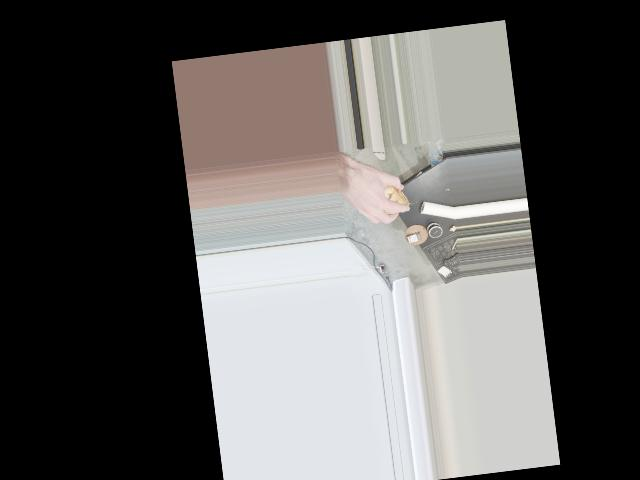onion: (363, 175, 411, 216)
